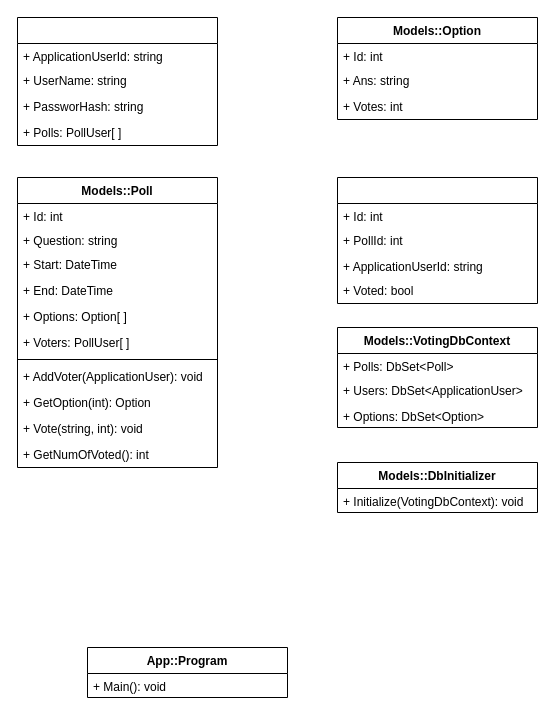
This 555x718 diagram has some shape labels left out. The shapes that lost their labels are listed below. From the top down, each one's box as (x1, y1, x2, y2) in pixels, then its label:
(16, 16, 218, 146): Models::ApplicationUser
(336, 176, 538, 304): Models::PollUser
